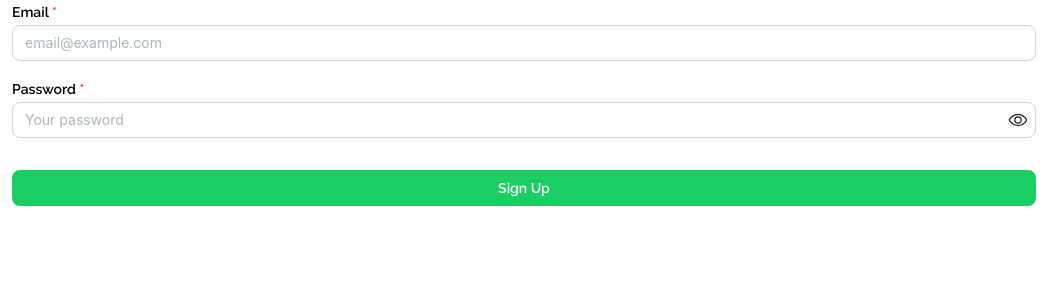
Test: SignUpForm › shows API error message on conflict
The width and height of the screenshot is (1048, 294).
In the field with placeholder "email@example.com": (524, 43) [12,25,1036,61], type "new@example.com"
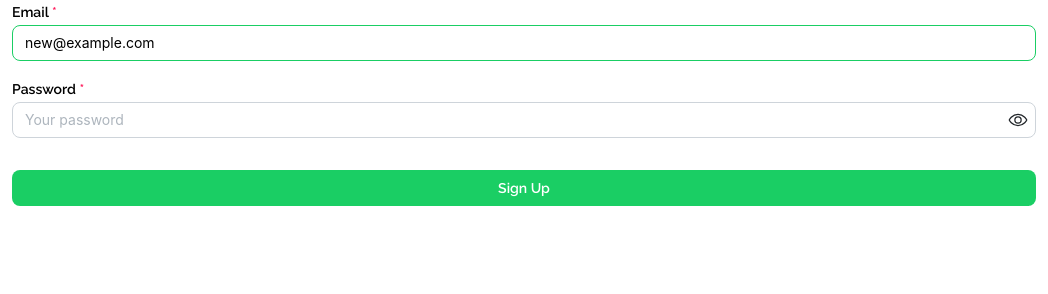
In the password field with placeholder "Your password": (524, 120) [13,103,1035,137], type "secret"
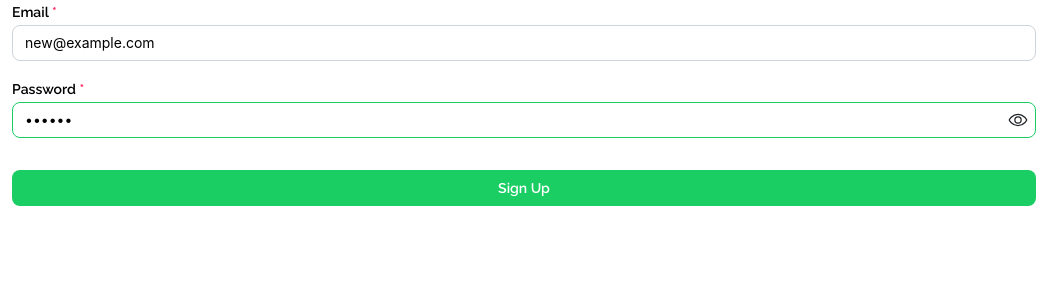
Click the button "Sign Up": (524, 188) [12,170,1036,206]
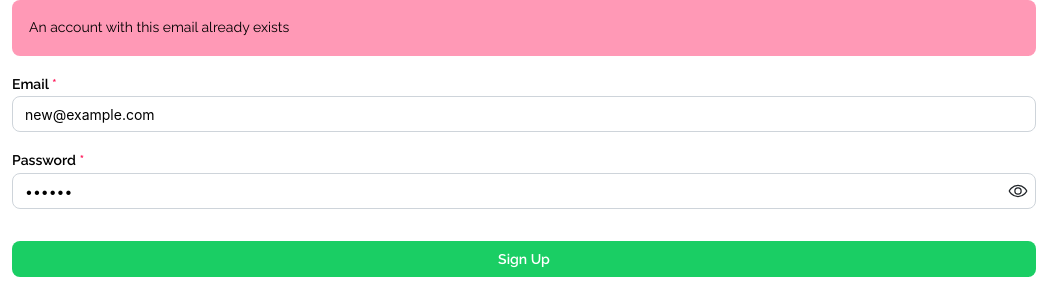
Expected: the text "An account with this email already exists" is shown, [29,19,289,35]
